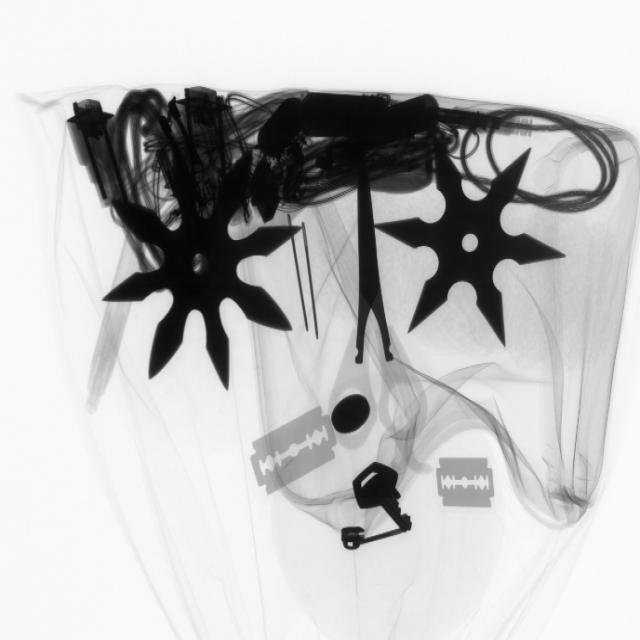BLADE: (246, 404, 343, 503), (432, 450, 502, 520)
SHURIKEN: (105, 142, 298, 395), (382, 141, 559, 351)
